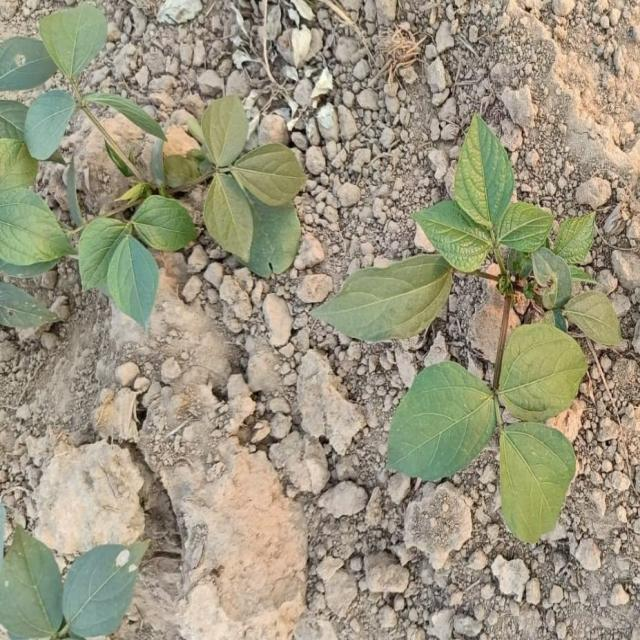plant: (317, 115, 621, 542), (0, 3, 305, 328)
